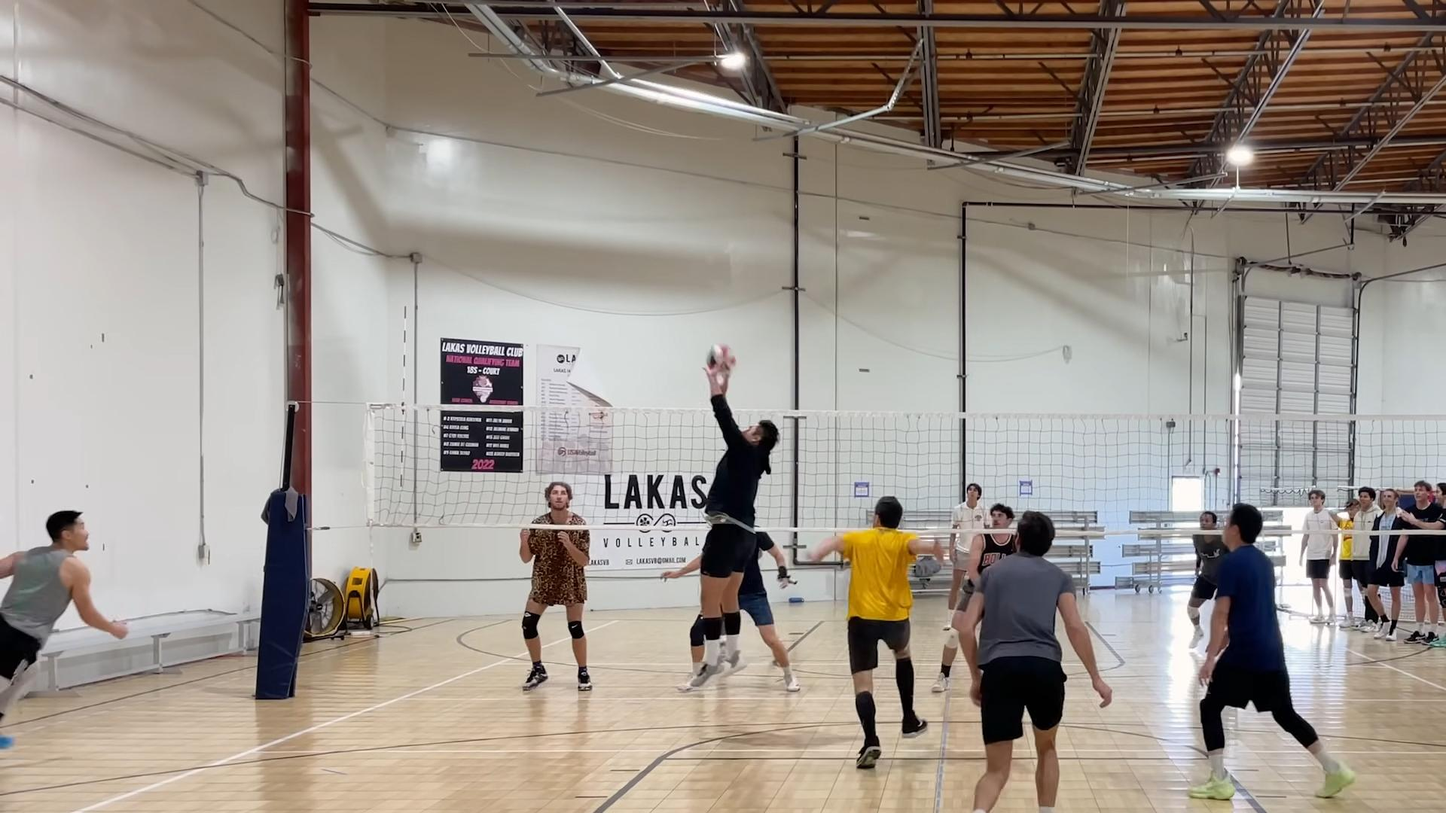alzata: (679, 368, 779, 699)
